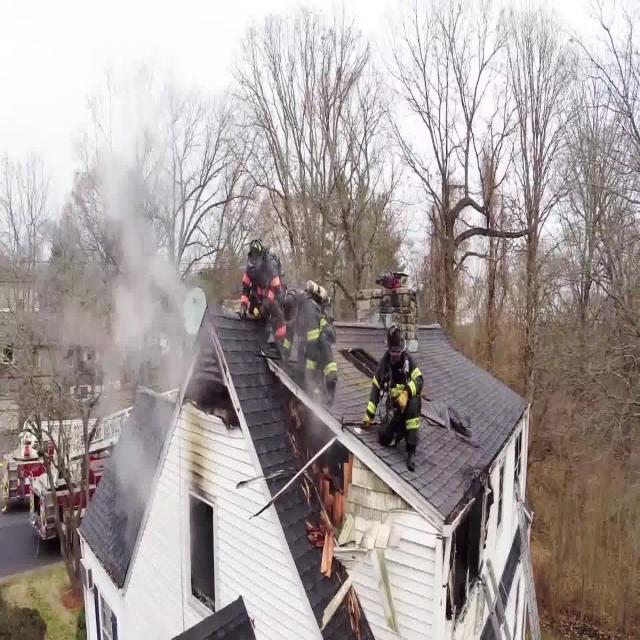Smoke: (0, 3, 227, 585)
